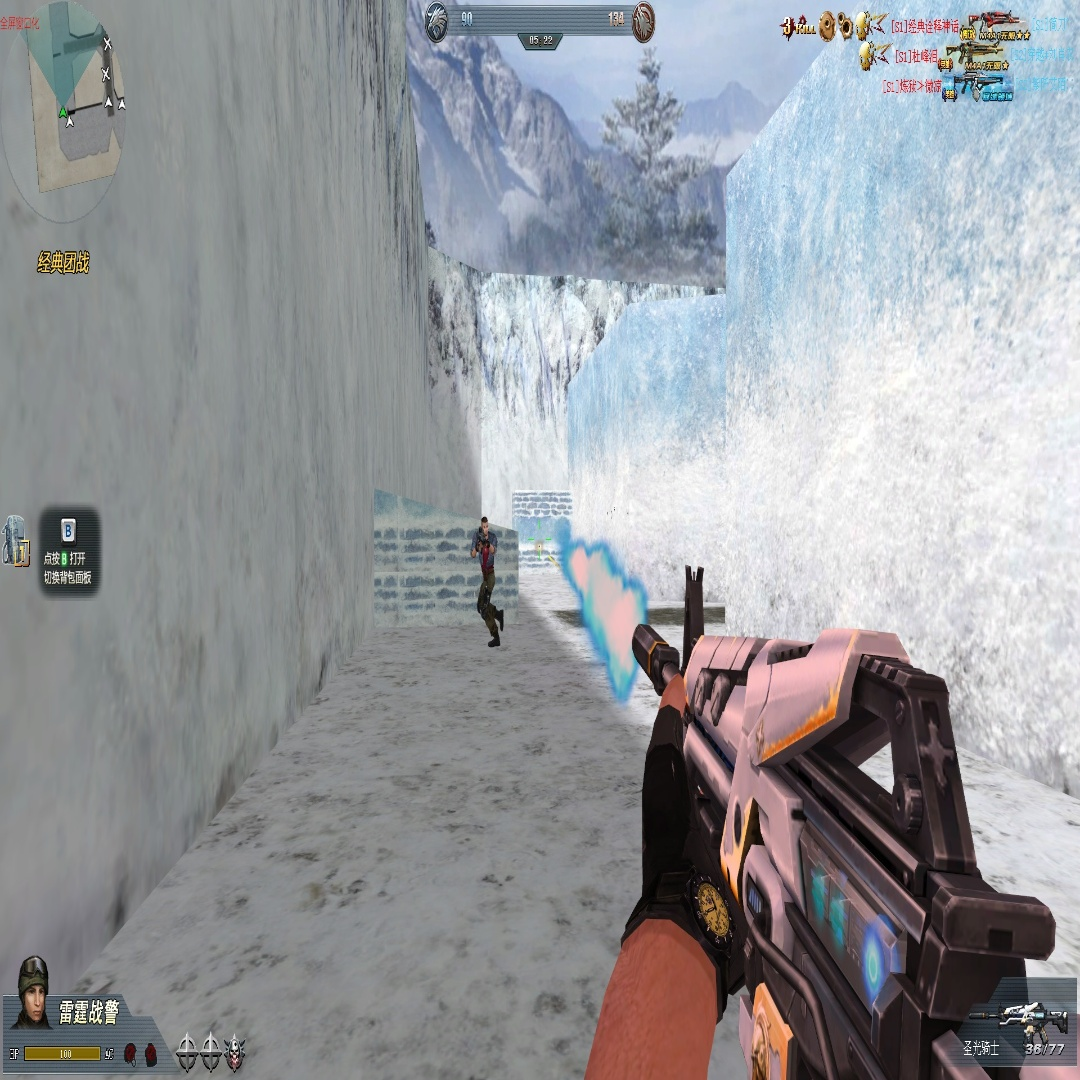t: (470, 515, 503, 645)
